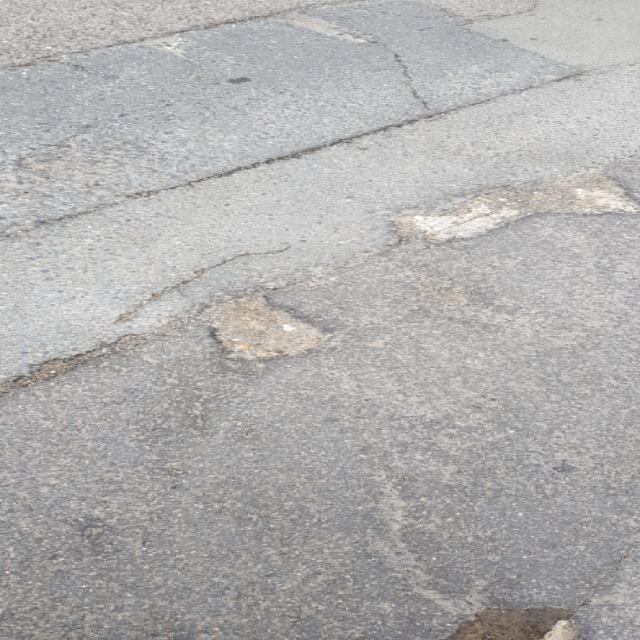pothole: (378, 162, 638, 246), (186, 285, 335, 361)
